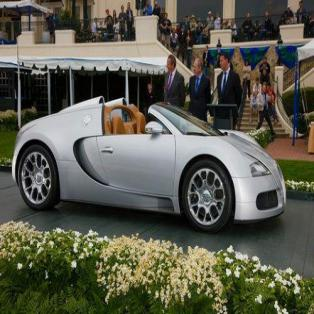Auto: (12, 96, 288, 234)
